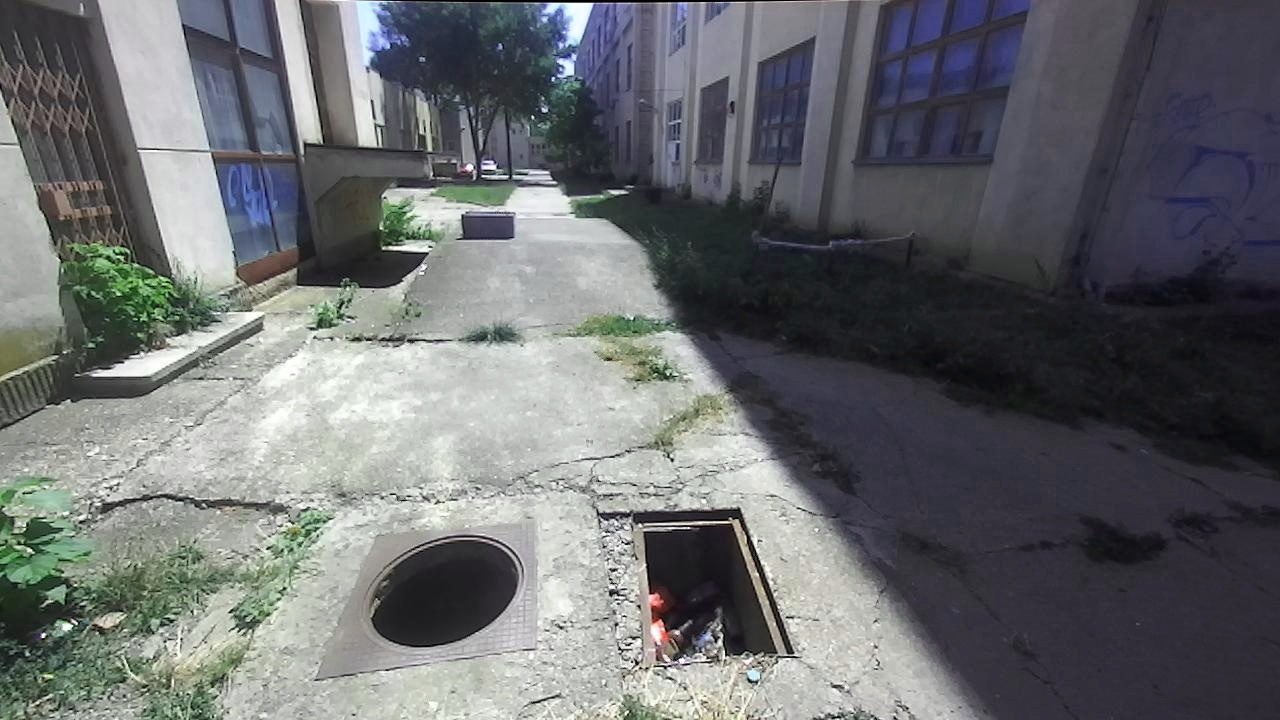drain: (624, 502, 808, 667), (355, 529, 526, 656)
